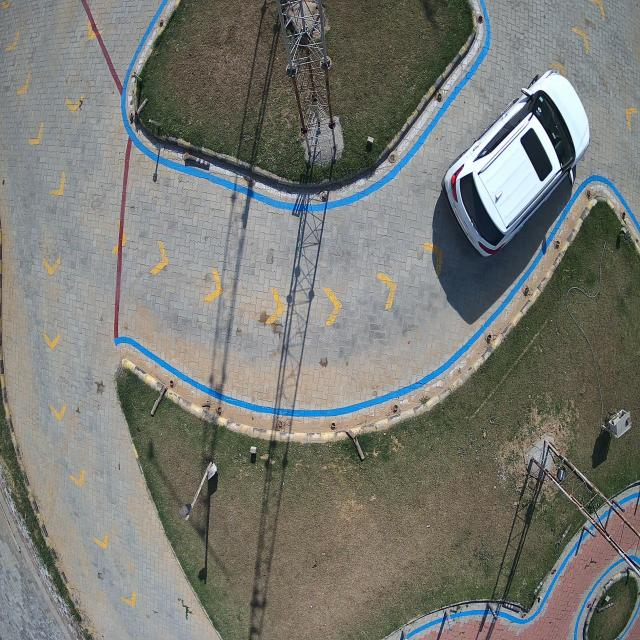car: (443, 72, 590, 258)
